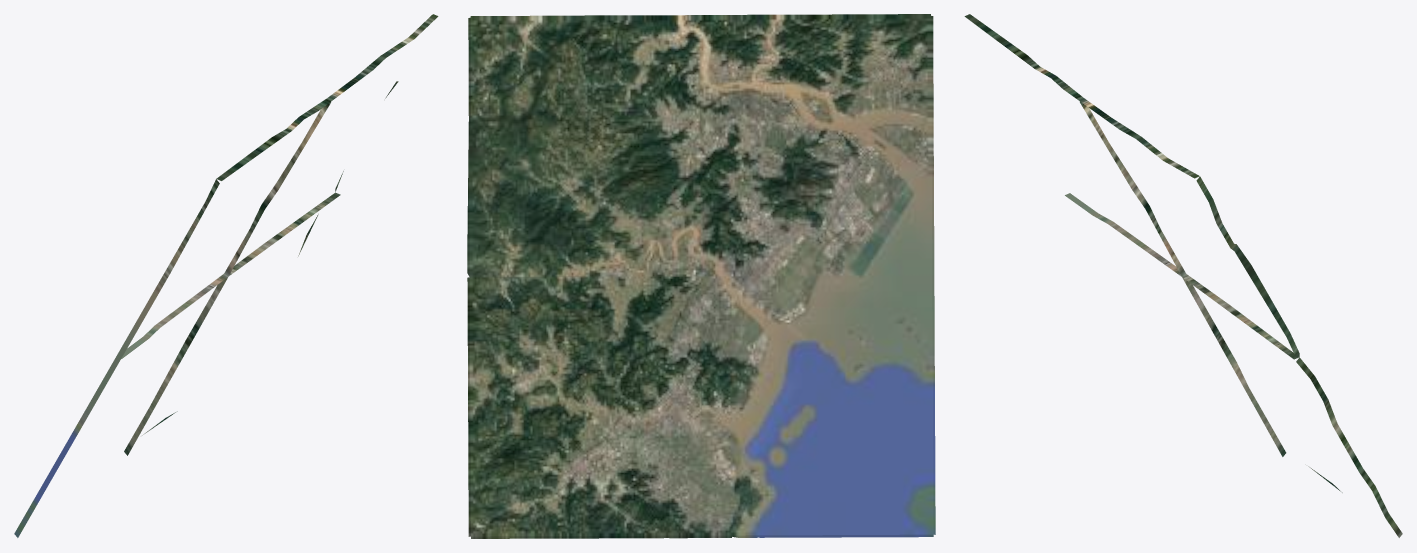
The picture shows the model from 3 angles, left to right: view 1: azimuth 30°, elevation 25°; view 2: azimuth 150°, elevation 25°; view 3: azimuth 270°, elevation 25°; orthographic projection. The views are drawn at different scales.
Bounding box in the file's own units: 78715 × 70265 × 67756.
1 material, 1 textured.
